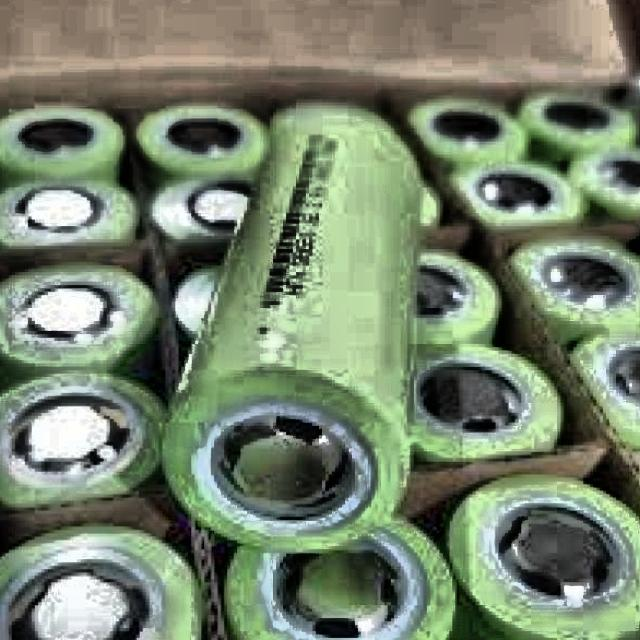Non-Valuable Waste - Batteries: (159, 102, 423, 552)
